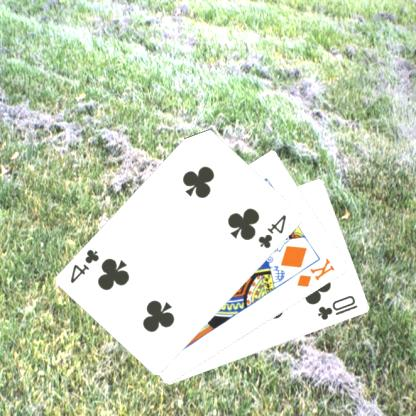10C: (317, 292, 361, 322)
4C: (70, 246, 103, 286), (257, 212, 290, 250)
KD: (296, 255, 338, 289)
